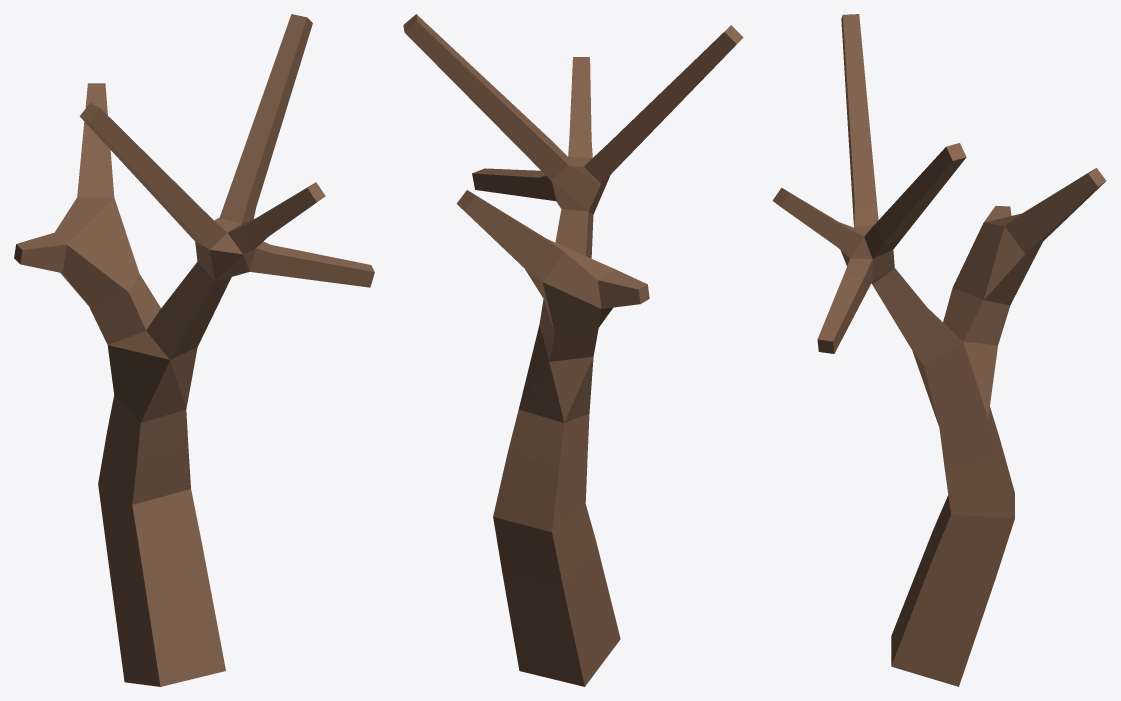
File: Templar Sec.fbx
3 views of the same model, side by side, from view 1: azimuth 30°, elevation 25°; view 2: azimuth 150°, elevation 25°; view 3: azimuth 270°, elevation 25° (orthographic). The views are drawn at different scales.
Visible parts, largest first — view 1: Cube.015; view 2: Cube.015; view 3: Cube.015.
Boxes of the visible parts, x1,y1,x2,y2 form: Cube.015: (14, 14, 374, 686); Cube.015: (403, 14, 743, 686); Cube.015: (772, 14, 1106, 686).
Size of the model in its own units: 0.697 by 1.5 by 0.754.
